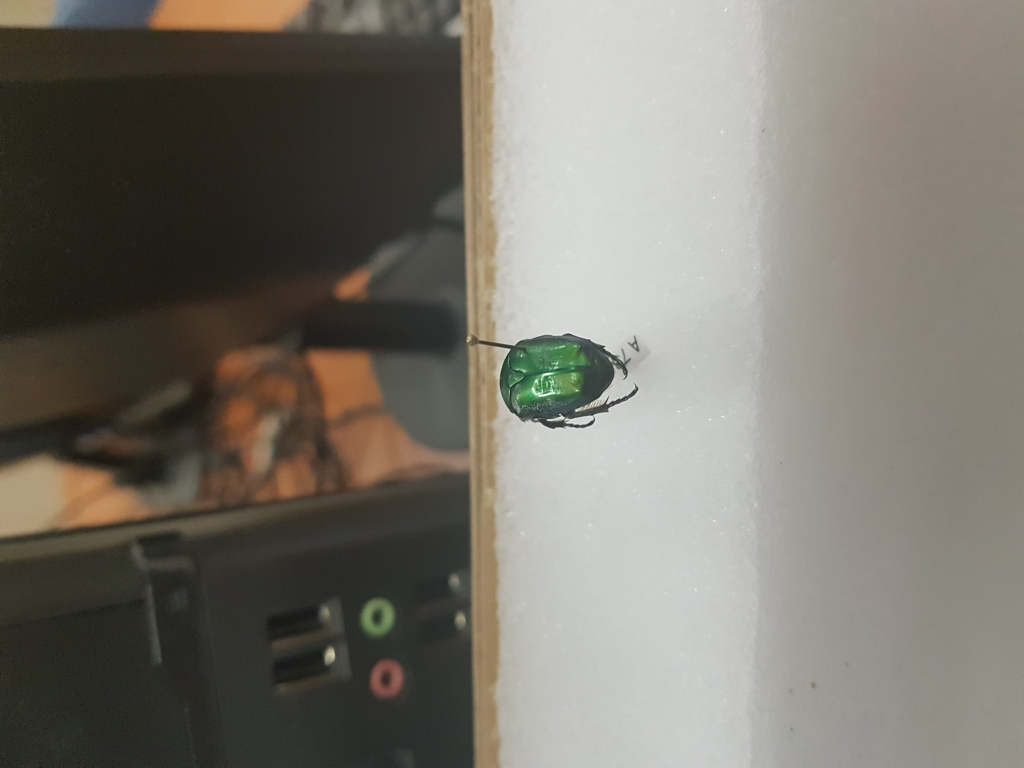Protaetia_cuprea_ignicollis: (493, 329, 639, 435)
